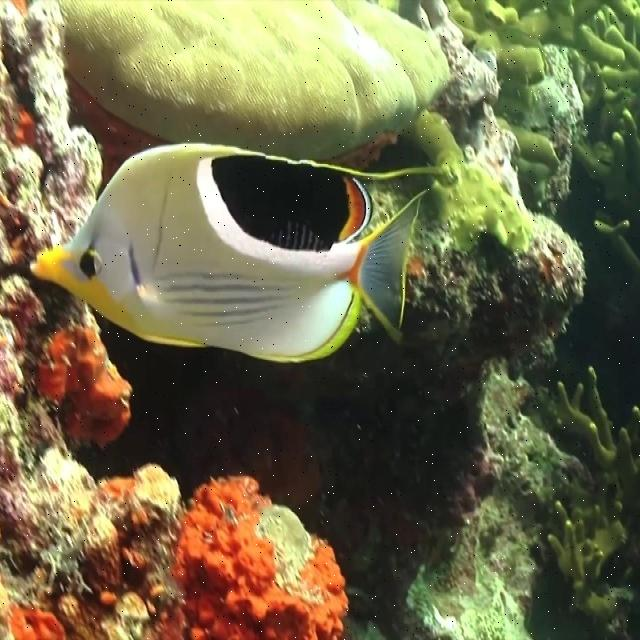fish: (27, 137, 428, 365)
reefs: (56, 0, 449, 163), (447, 1, 639, 265), (546, 362, 639, 639), (364, 109, 532, 253)
sea-floor: (0, 1, 346, 639)
